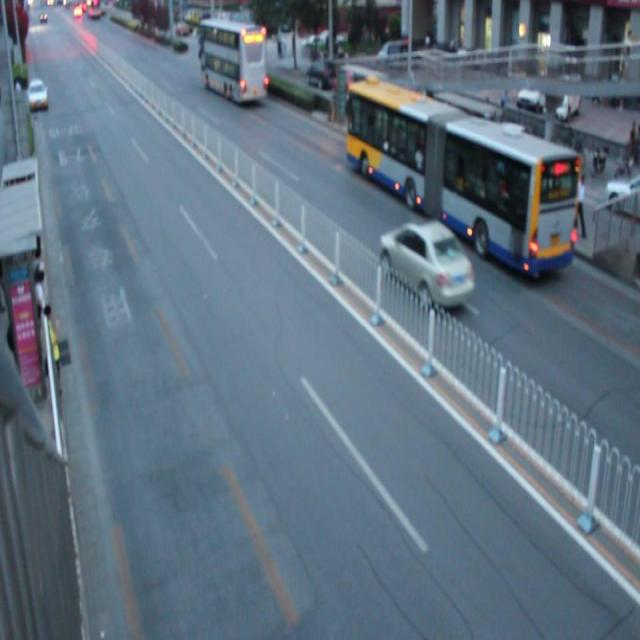car: (379, 219, 474, 312)
van: (344, 82, 577, 274), (200, 19, 267, 107)
